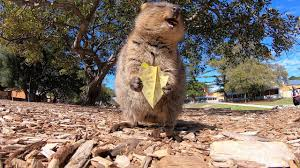quokka: (107, 0, 204, 150)
